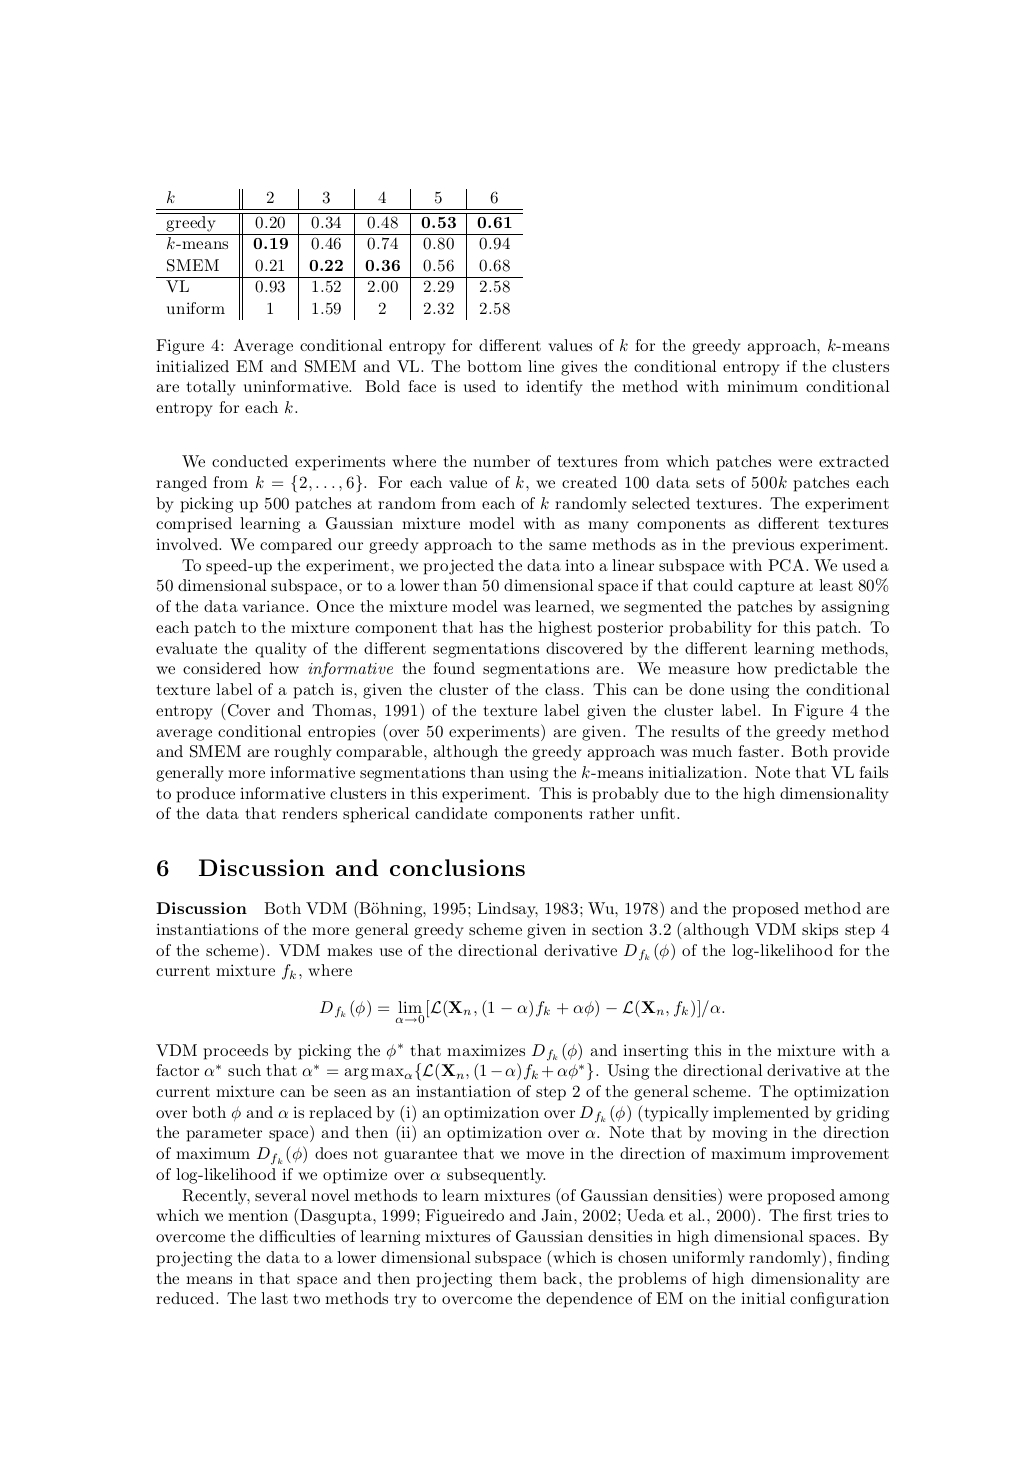Table: (156, 189, 522, 319)
formula: (319, 999, 724, 1024)
